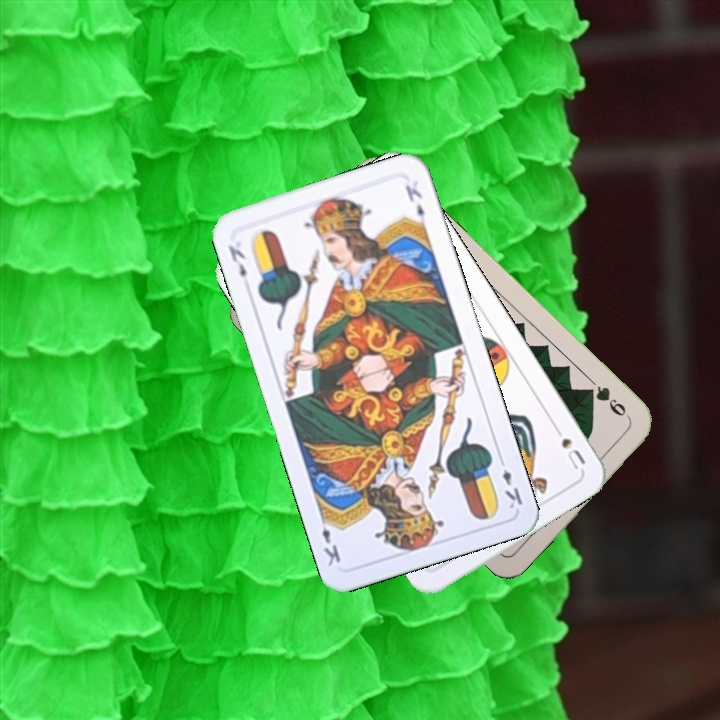EK: (494, 452, 525, 512), (224, 241, 249, 281)
G9: (582, 381, 634, 423)
SU: (548, 419, 588, 472)
